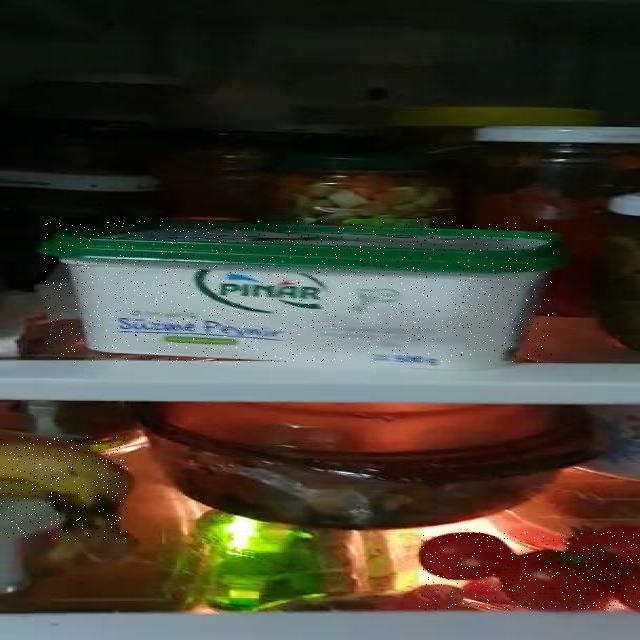banana: (0, 437, 128, 540)
cheese: (44, 221, 554, 363)
tomato: (419, 532, 640, 610)
